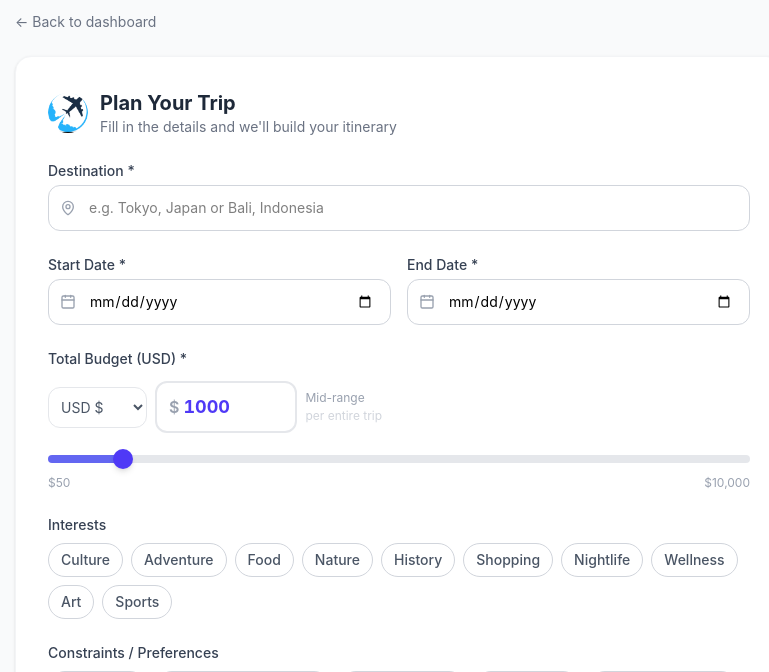
it: PlanTripPage › fills destination when a suggestion is clicked
The width and height of the screenshot is (769, 672).
Type "Par" into the field labelled "Destination *" at [399, 208], box left=48, top=185, right=750, bottom=231
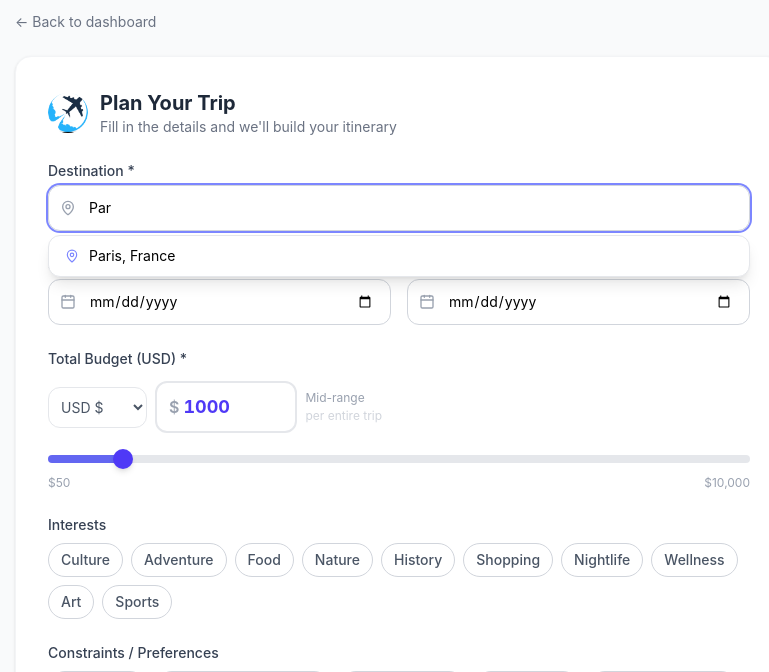
Press the mouse on the button "Paris, France" at [132, 256], box left=49, top=236, right=749, bottom=276
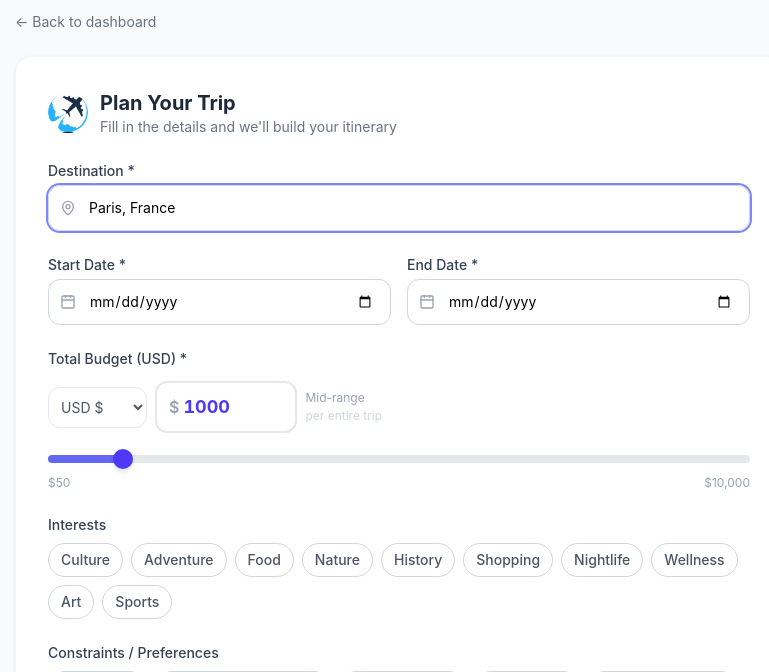
Result: the field labelled "Destination *" holds "Paris, France" at left=48, top=185, right=750, bottom=231
